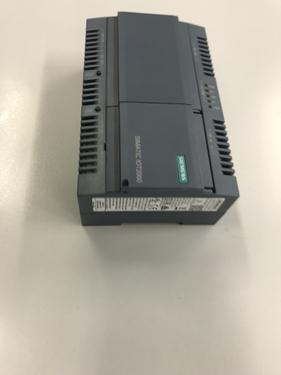device: (77, 12, 241, 227)
